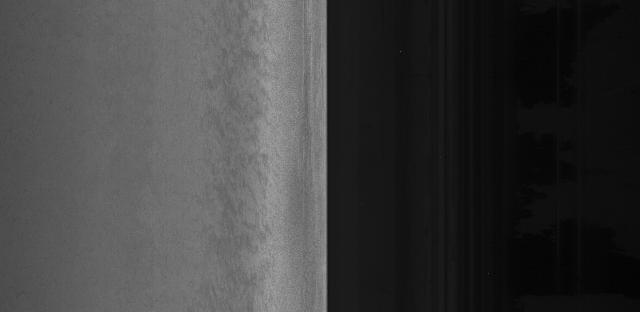silk_spot: (210, 121, 265, 219)
